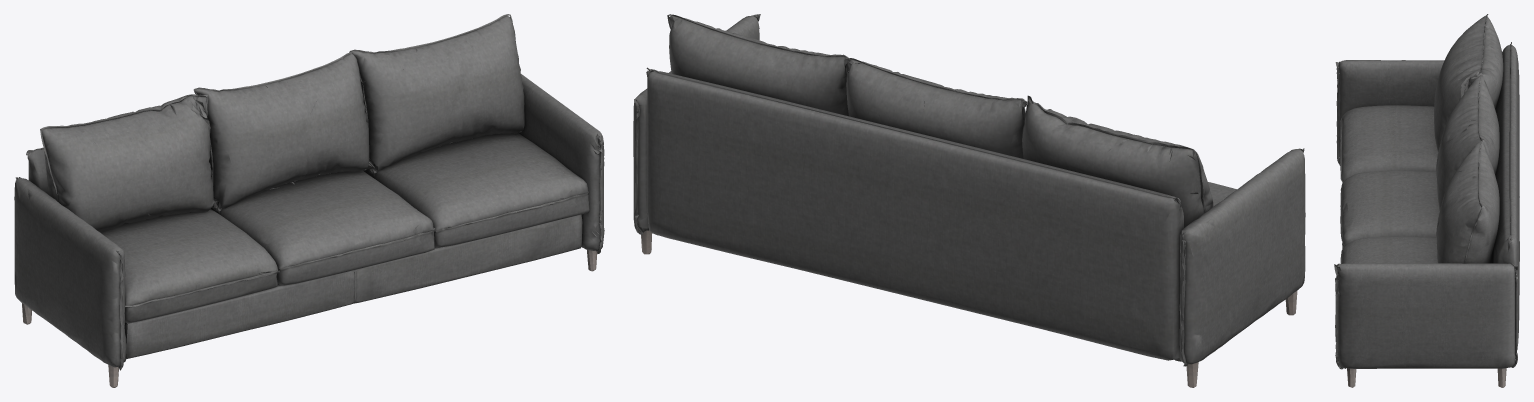
Rendered from raw_model.obj.
The picture shows the model from 3 angles, left to right: view 1: azimuth 30°, elevation 25°; view 2: azimuth 150°, elevation 25°; view 3: azimuth 270°, elevation 25°; orthographic projection. The views are drawn at different scales.
Parts seen in each view (by area): view 1: solid_003, solid_002; view 2: solid_003, solid_002; view 3: solid_003, solid_002.
Boxes of the visible parts, x1,y1,x2,y2 form: solid_003: (14,14,604,370); solid_002: (22,249,597,387); solid_003: (633,14,1305,366); solid_002: (641,230,1297,387); solid_003: (1334,14,1519,369); solid_002: (1347,368,1506,387).
Size of the model in its own units: 2.32 by 0.9046 by 0.8555.
Materials: 1 (1 with a texture image).
